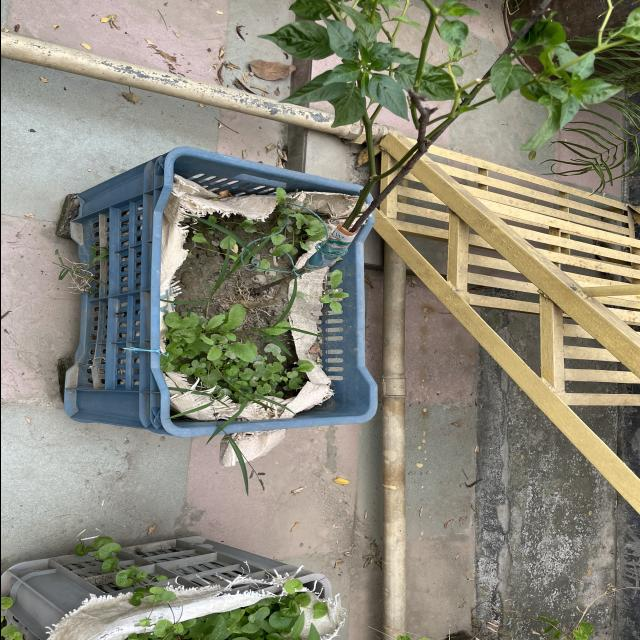Breeding Place: (65, 155, 376, 435), (0, 534, 343, 640)
